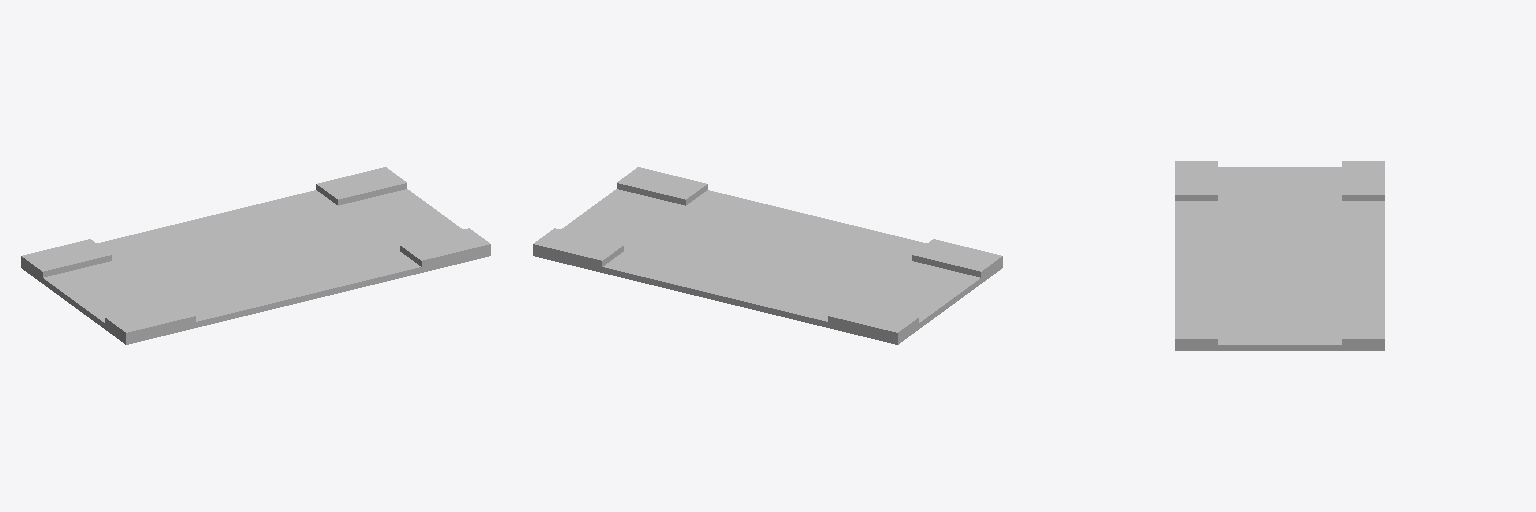
File: roads-8.obj
3 views of the same model, side by side, from view 1: azimuth 30°, elevation 25°; view 2: azimuth 150°, elevation 25°; view 3: azimuth 270°, elevation 25° (orthographic).
Visible parts, largest first — view 1: object 1; view 2: object 1; view 3: object 1.
Part boxes in pixels (x1,y1,x2,y2): object 1: (21, 167, 490, 344); object 1: (533, 167, 1002, 344); object 1: (1175, 161, 1384, 350).
Bounding box in the file's own units: 12.6 × 0.4 × 6.3.